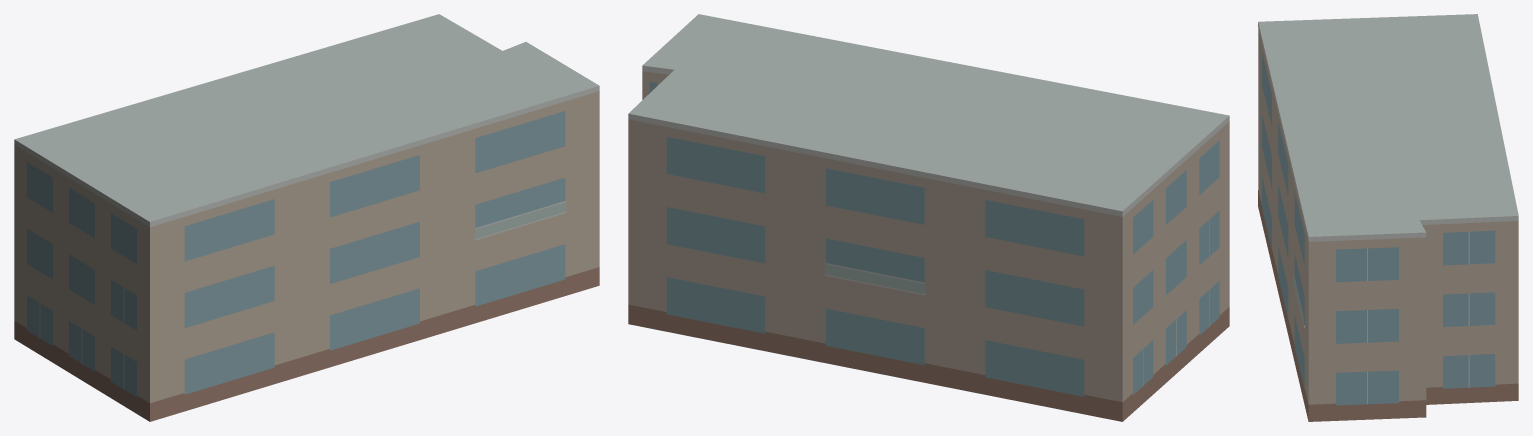
Rendered from survey-upis-33013022.glb.
3 renders of one model, left to right at view 1: azimuth 30°, elevation 25°; view 2: azimuth 150°, elevation 25°; view 3: azimuth 270°, elevation 25°, orthographic. The views are drawn at different scales.
Visible parts, largest first — view 1: survey-upis-33013022.tmp; view 2: survey-upis-33013022.tmp; view 3: survey-upis-33013022.tmp.
Boxes of the visible parts, x1,y1,x2,y2 form: survey-upis-33013022.tmp: (14, 14, 599, 421); survey-upis-33013022.tmp: (628, 14, 1229, 421); survey-upis-33013022.tmp: (1258, 14, 1518, 421).
Size of the model in its own units: 23.67 by 9.15 by 11.7.
